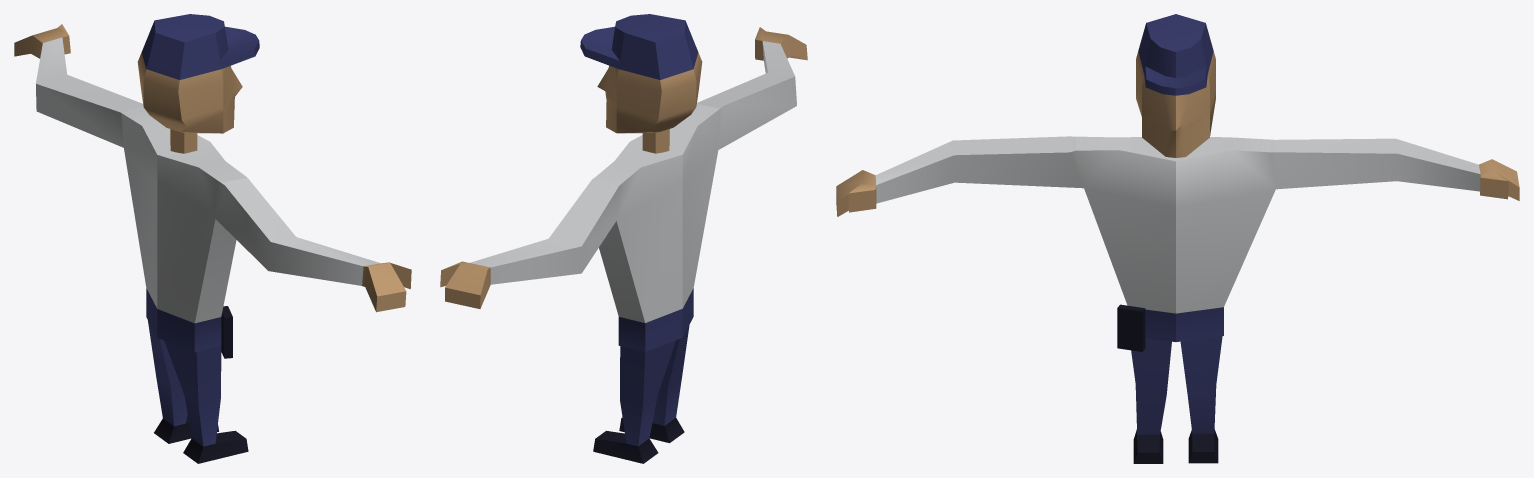
File: Security Guard T Pose.fbx
3 renders of one model, left to right at view 1: azimuth 30°, elevation 25°; view 2: azimuth 150°, elevation 25°; view 3: azimuth 270°, elevation 25°, orthographic.
Visible parts, largest first — view 1: Torso, Head, R_Leg, L_Leg, Walkie_Talkie, neck; view 2: Torso, Head, L_Leg, R_Leg, neck; view 3: Torso, Head, L_Leg, R_Leg, Walkie_Talkie.
Part boxes in pixels (bbox=[...]): Torso: bbox=[14, 24, 411, 352]; Head: bbox=[137, 14, 259, 133]; R_Leg: bbox=[164, 341, 248, 463]; L_Leg: bbox=[148, 320, 218, 443]; Walkie_Talkie: bbox=[221, 306, 232, 358]; neck: bbox=[170, 129, 197, 153]; Torso: bbox=[440, 27, 807, 351]; Head: bbox=[580, 14, 702, 133]; L_Leg: bbox=[593, 340, 675, 463]; R_Leg: bbox=[619, 325, 689, 443]; neck: bbox=[642, 129, 669, 153]; Torso: bbox=[836, 136, 1519, 341]; Head: bbox=[1136, 14, 1215, 157]; L_Leg: bbox=[1180, 336, 1222, 463]; R_Leg: bbox=[1131, 338, 1171, 463]; Walkie_Talkie: bbox=[1117, 304, 1145, 351].
Bounding box in the file's own units: 6.82 × 24.42 × 36.42.
